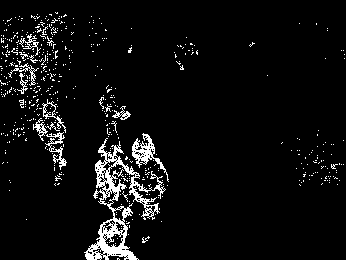person: (131, 134, 168, 220), (96, 140, 135, 218), (35, 103, 67, 187), (101, 84, 129, 147)
